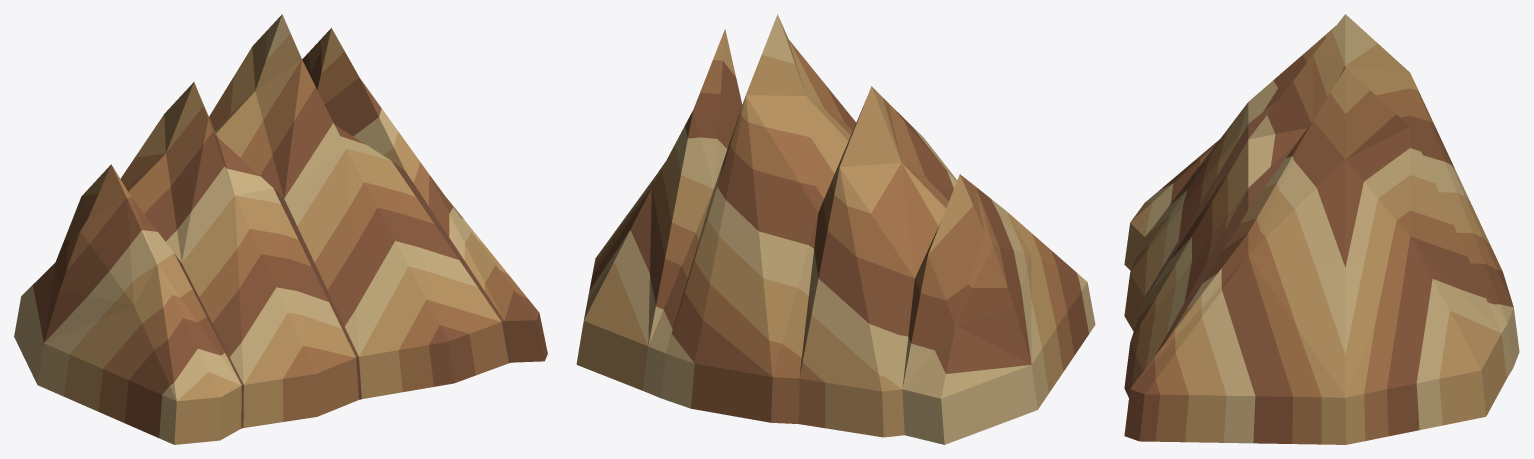
File: strata_single.glb
The picture shows the model from 3 angles, left to right: view 1: azimuth 30°, elevation 25°; view 2: azimuth 150°, elevation 25°; view 3: azimuth 270°, elevation 25°; orthographic projection. The views are drawn at different scales.
Visible parts, largest first — view 1: strata_single; view 2: strata_single; view 3: strata_single.
Boxes of the visible parts, <box> form: strata_single: <box>14,14,547,444</box>; strata_single: <box>576,14,1095,444</box>; strata_single: <box>1124,14,1519,444</box>.
Size of the model in its own units: 1.63 by 1.15 by 1.22.
